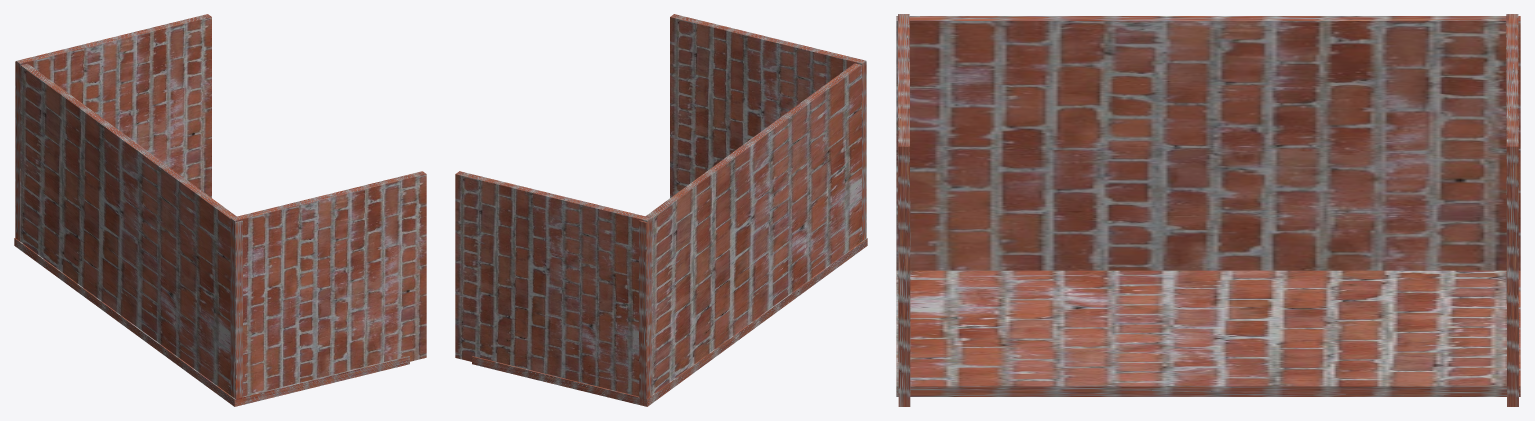
File: room.obj
3 views of the same model, side by side, from view 1: azimuth 30°, elevation 25°; view 2: azimuth 150°, elevation 25°; view 3: azimuth 270°, elevation 25° (orthographic). The views are drawn at different scales.
Visible parts, largest first — view 1: Cube.001, Cube.003, Cube.002, Cube; view 2: Cube.001, Cube.002, Cube.003, Cube; view 3: Cube.001, Cube, Cube.002, Cube.003.
Part boxes in pixels (x1=…): Cube.001: x1=15, y1=61, x2=242, y2=405; Cube.003: x1=230, y1=171, x2=426, y2=398; Cube.002: x1=16, y1=14, x2=211, y2=240; Cube: x1=14, y1=238, x2=409, y2=406; Cube.001: x1=639, y1=61, x2=866, y2=405; Cube.002: x1=455, y1=171, x2=651, y2=398; Cube.003: x1=670, y1=14, x2=866, y2=240; Cube: x1=472, y1=238, x2=867, y2=406; Cube.001: x1=896, y1=16, x2=1520, y2=270; Cube: x1=896, y1=270, x2=1520, y2=396; Cube.002: x1=1506, y1=14, x2=1518, y2=406; Cube.003: x1=898, y1=14, x2=910, y2=406.
Size of the model in its own units: 6.15 by 5.64 by 12.17.
1 material, 1 textured.
